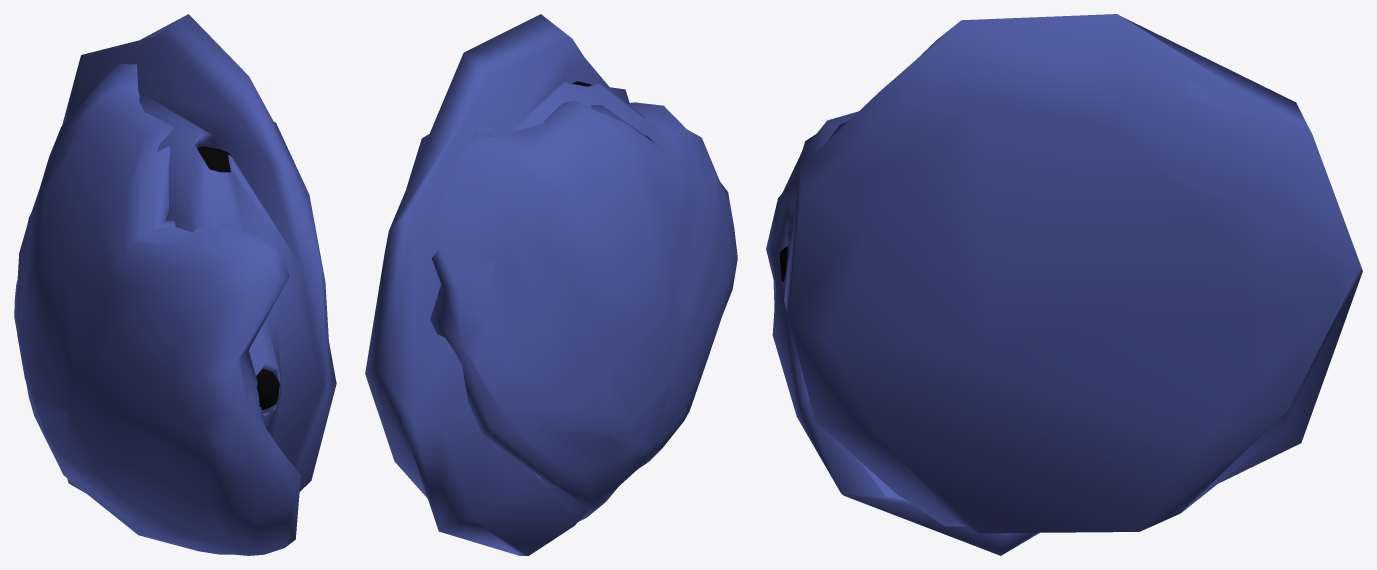
Rendered from inky_bake_climb.fbx.
3 renders of one model, left to right at view 1: azimuth 30°, elevation 25°; view 2: azimuth 150°, elevation 25°; view 3: azimuth 270°, elevation 25°, orthographic. The views are drawn at different scales.
Parts seen in each view (by area): view 1: inky_animation31; view 2: inky_animation31; view 3: inky_animation31.
Part boxes in pixels (x1,y1,x2,y2): inky_animation31: (14,14,336,555); inky_animation31: (365,14,737,555); inky_animation31: (766,14,1362,555).
Size of the model in its own units: 38.28 by 88.9 by 86.62.
Materials: 1 (1 with a texture image).
